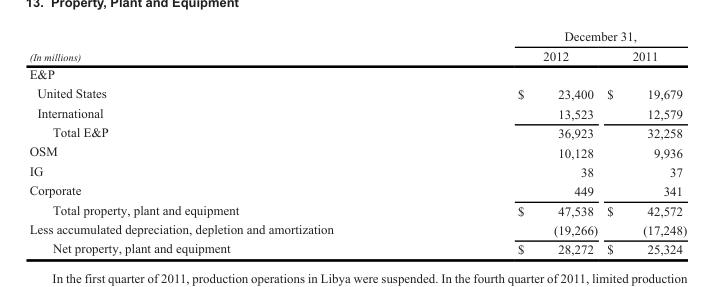table: (28, 28, 686, 256)
table column: (28, 28, 425, 256), (425, 28, 601, 256), (601, 28, 686, 256)
table column header: (28, 28, 686, 64)
table projected row header: (28, 64, 686, 83)
table row: (28, 83, 686, 103), (28, 141, 686, 161), (28, 180, 686, 200), (28, 45, 686, 64), (28, 64, 686, 83), (28, 103, 686, 122), (28, 122, 686, 141), (28, 161, 686, 180), (28, 200, 686, 219), (28, 219, 686, 238), (28, 238, 686, 256), (28, 28, 686, 45)
table spanning cell: (28, 28, 425, 64), (425, 28, 686, 45)
